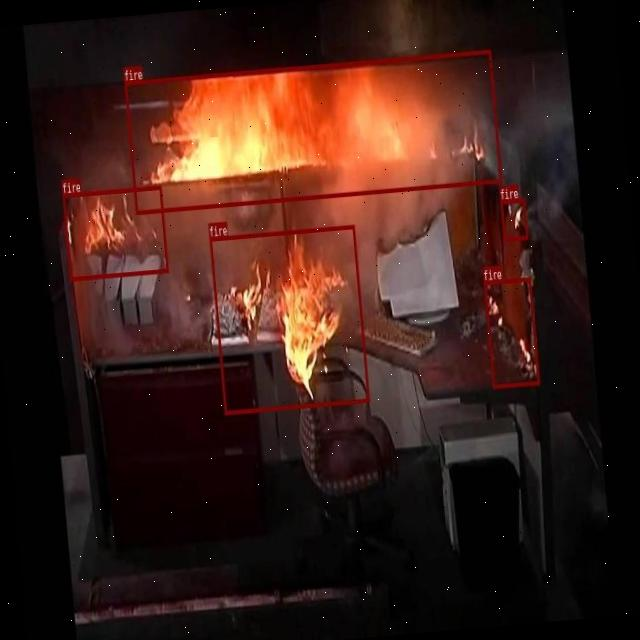fire: (124, 49, 502, 214), (208, 224, 370, 414), (62, 184, 168, 280), (484, 276, 540, 388), (500, 198, 528, 240)
